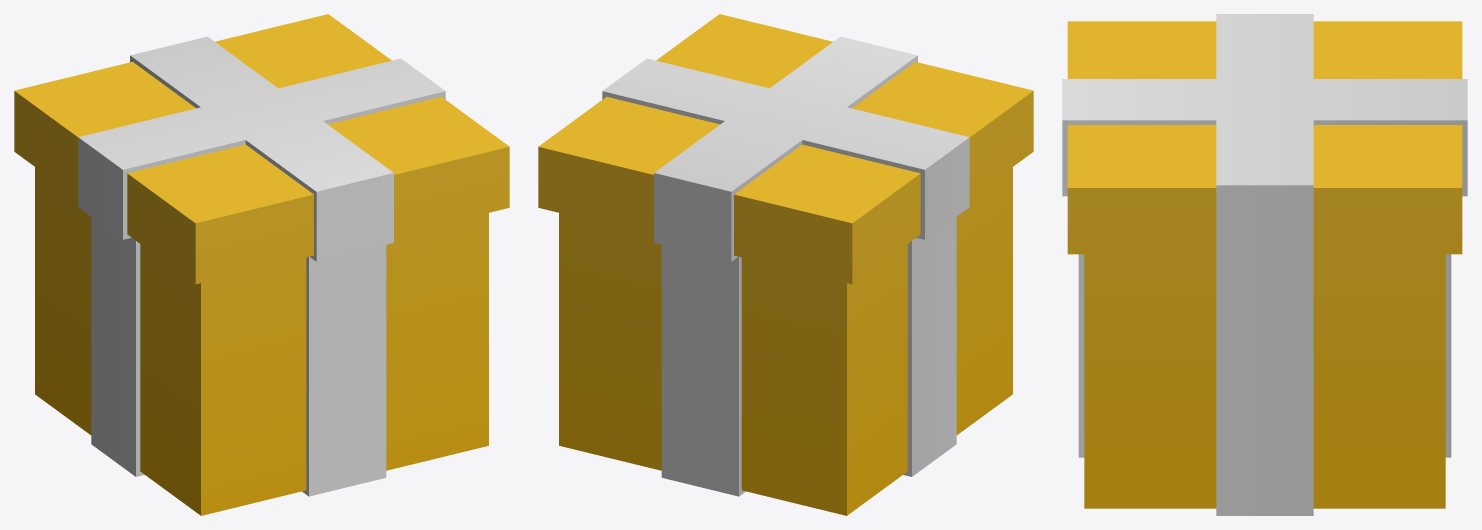
The model's file is Yealow_Gift_Box.fbx.
3 views of the same model, side by side, from view 1: azimuth 30°, elevation 25°; view 2: azimuth 150°, elevation 25°; view 3: azimuth 270°, elevation 25° (orthographic). The views are drawn at different scales.
Visible parts, largest first — view 1: Yealow_Gift_Box; view 2: Yealow_Gift_Box; view 3: Yealow_Gift_Box.
Boxes of the visible parts, left/top/right/bottom form: Yealow_Gift_Box: left=14, top=14, right=509, bottom=515; Yealow_Gift_Box: left=538, top=14, right=1033, bottom=515; Yealow_Gift_Box: left=1062, top=14, right=1467, bottom=515.
Bounding box in the file's own units: 99.07 × 91.02 × 99.07.
